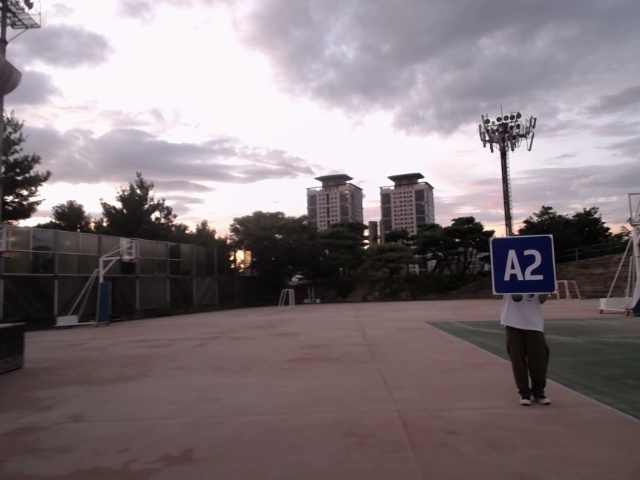delivery_a2: (491, 235, 556, 295)
